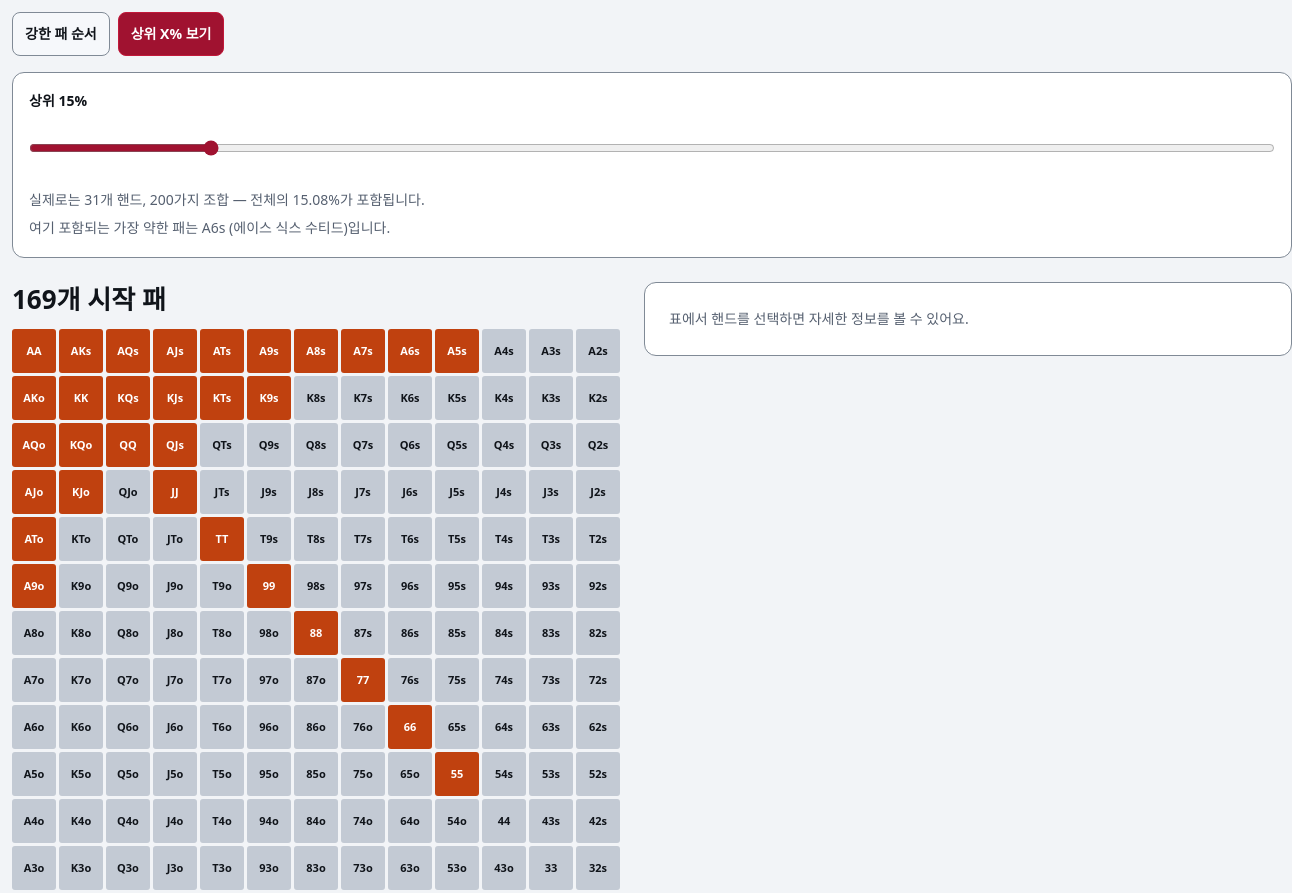
Scenario: StartingHandExplorer › switching to "강한 패 순서" hides the slider and shows a neutral, unhighlighted matrix
Expected: the slider holds "15", x1=29 y1=126 x2=1275 y2=170
Click the button "강한 패 순서".
click(61, 34)  # box x1=12 y1=12 x2=110 y2=56
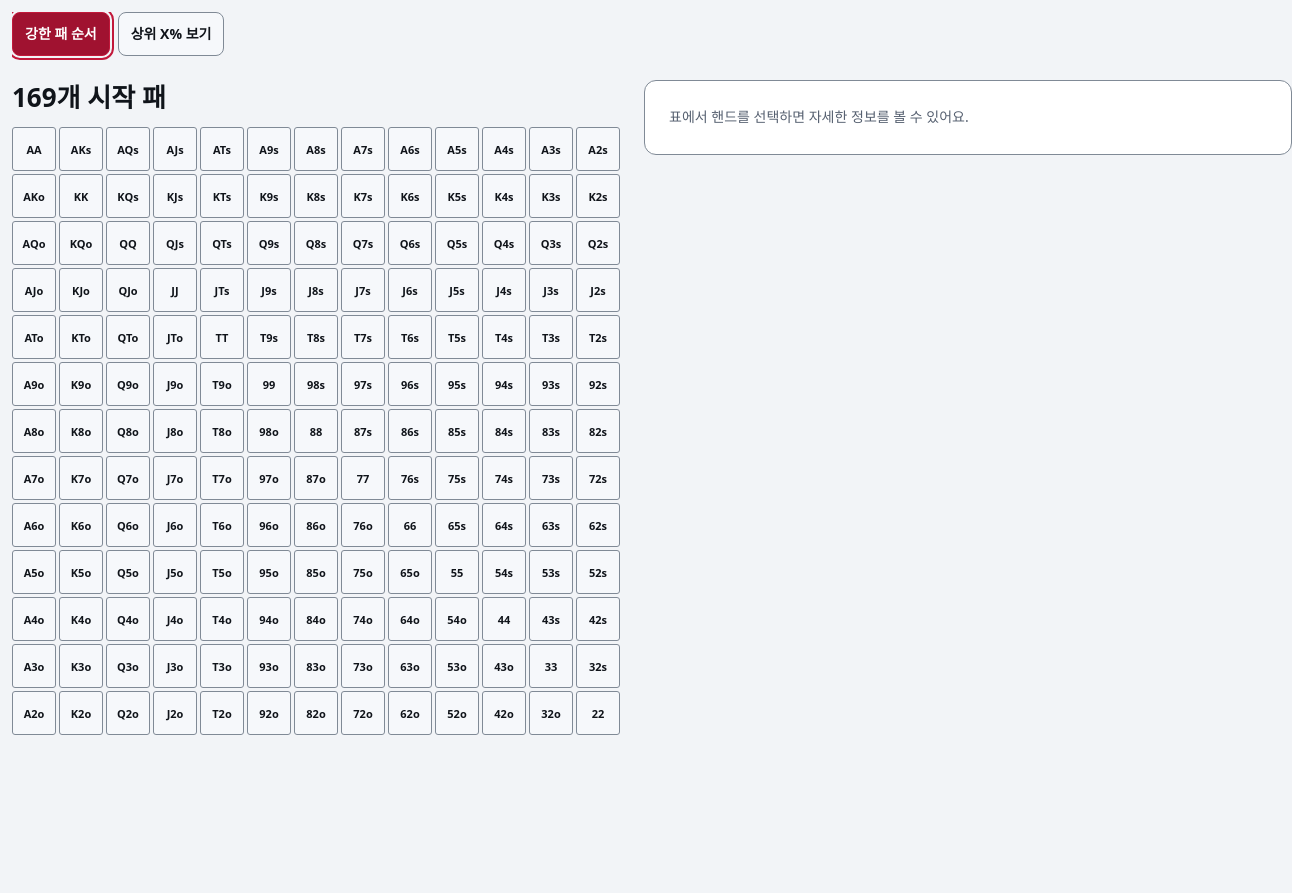
Expected: the button "AA " is shown, x1=12 y1=127 x2=56 y2=171
Expected: the slider is gone
